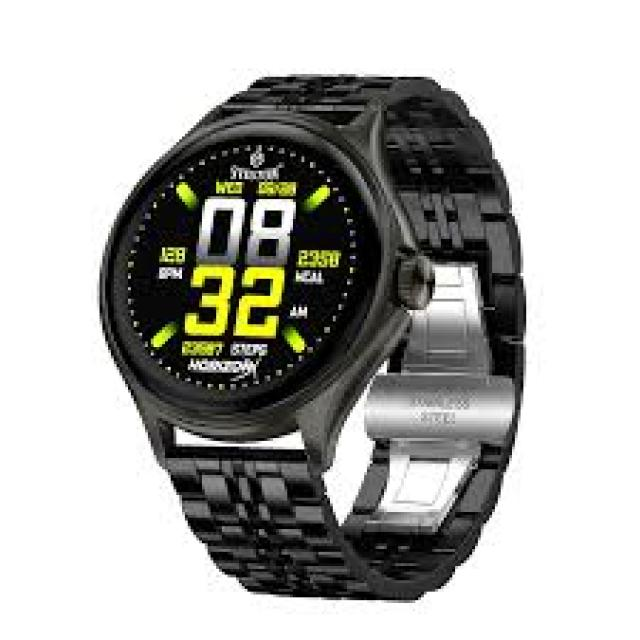objects: (100, 77, 523, 603)
